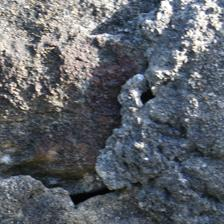Crack: (3, 83, 122, 132)
